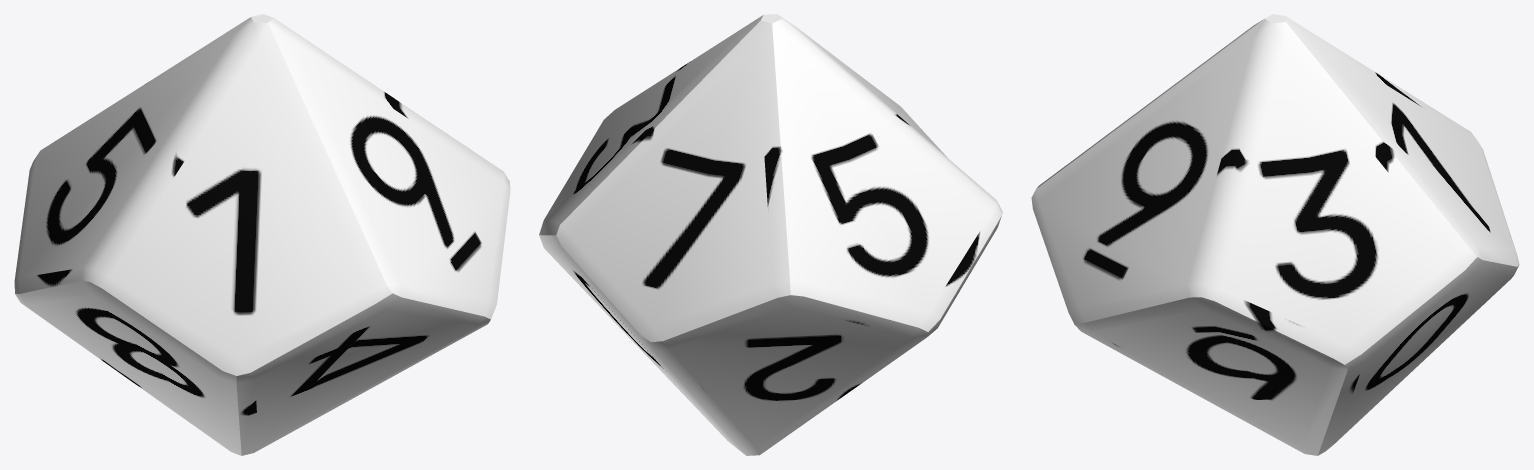
File: Dado100_Col.FBX
3 renders of one model, left to right at view 1: azimuth 30°, elevation 25°; view 2: azimuth 150°, elevation 25°; view 3: azimuth 270°, elevation 25°, orthographic. The views are drawn at different scales.
Parts seen in each view (by area): view 1: Dado100_Col; view 2: Dado100_Col; view 3: Dado100_Col.
Part boxes in pixels (x1,y1,x2,y2): Dado100_Col: (14,14,510,455); Dado100_Col: (539,14,1002,455); Dado100_Col: (1031,14,1519,455).
Size of the model in its own units: 239 by 242 by 247.
